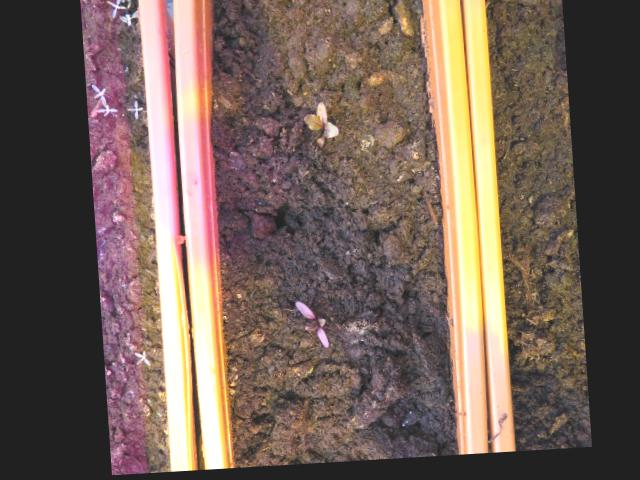crop: (296, 100, 340, 160), (284, 297, 327, 358)
weed: (120, 99, 145, 125), (124, 350, 148, 374)
